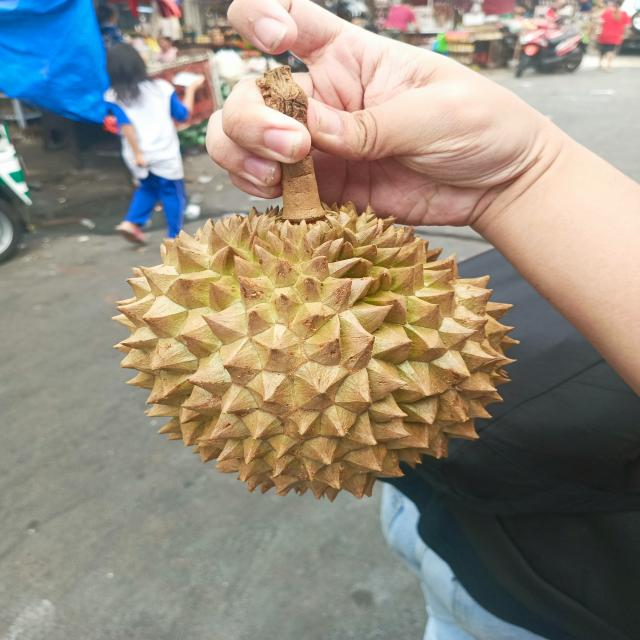mature: (107, 198, 519, 500)
